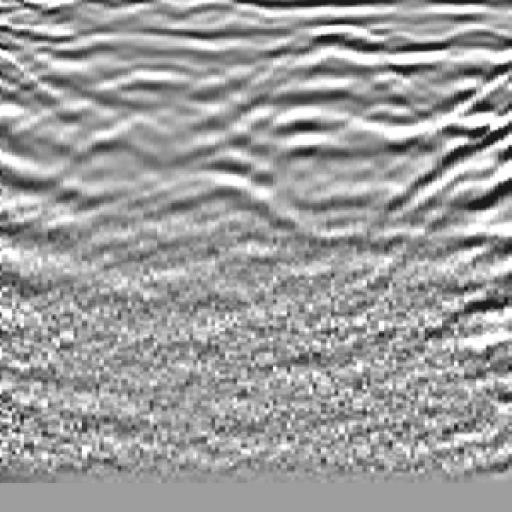metalic: (160, 34, 317, 298)
nonmetalic: (388, 33, 512, 315)
